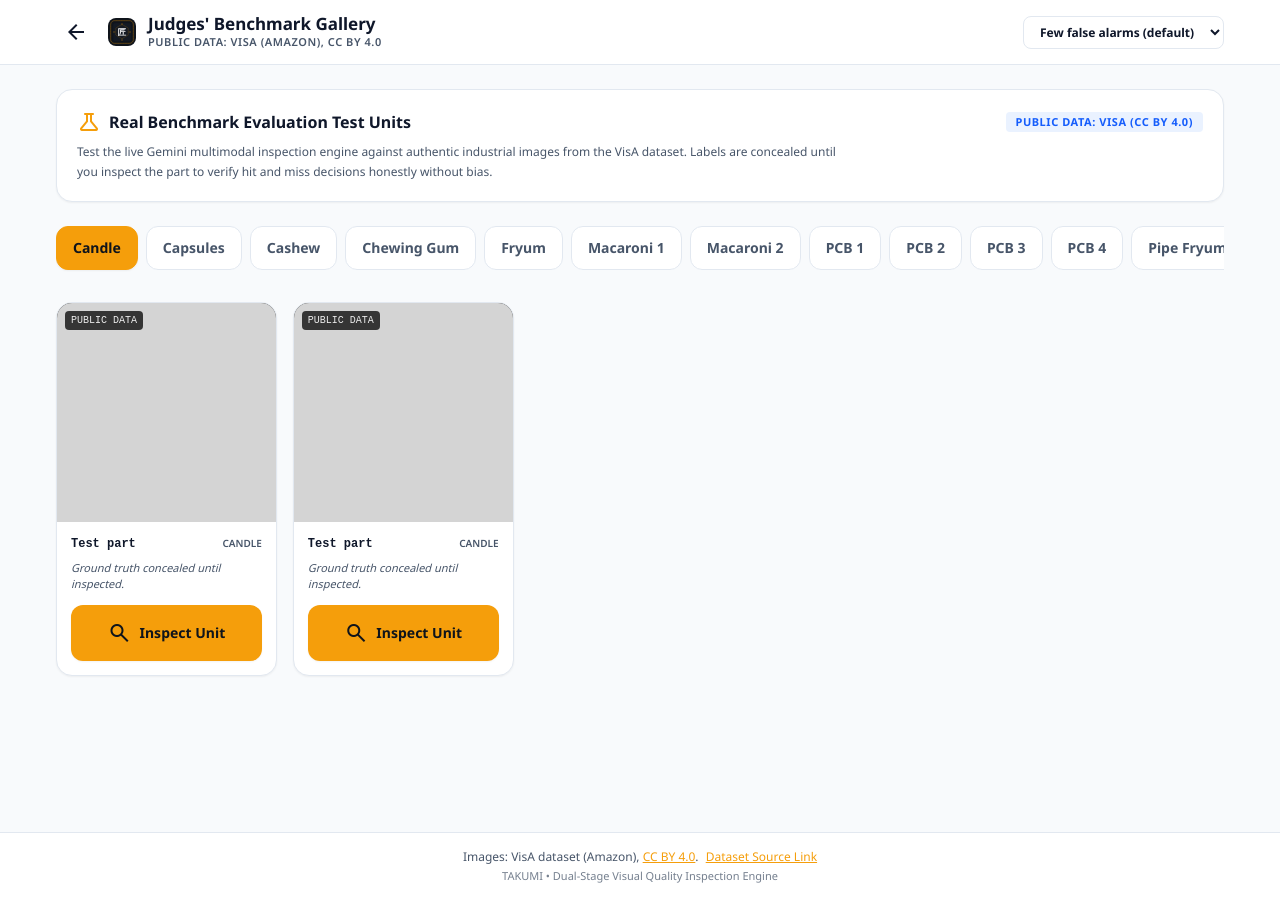
it: GalleryScreen › inspects a tile and reveals ground truth alongside hit evaluation
This screenshot has width=1280, height=900.
Expected: the heading "Judges' Benchmark Gallery" is shown, [148,13,382,34]
Click the 1st button "Inspect Unit" at (166, 633), box [71,605,262,661]
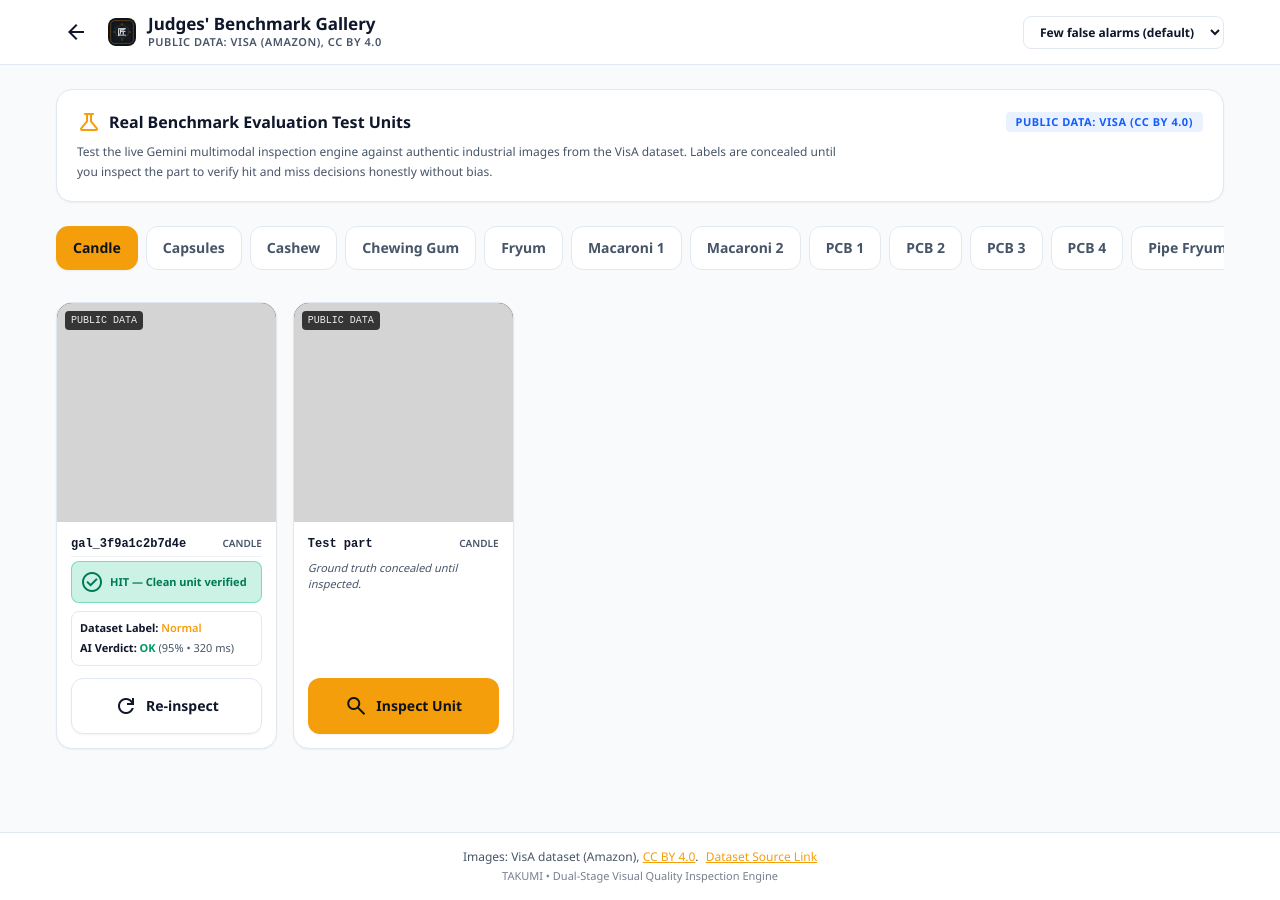
Expected: the text "HIT — Clean unit verified" is shown, [110,575,247,589]
Expected: the text "Dataset Label:" is shown, [80,620,158,635]
Expected: the text "normal" is shown, [161,620,202,635]
